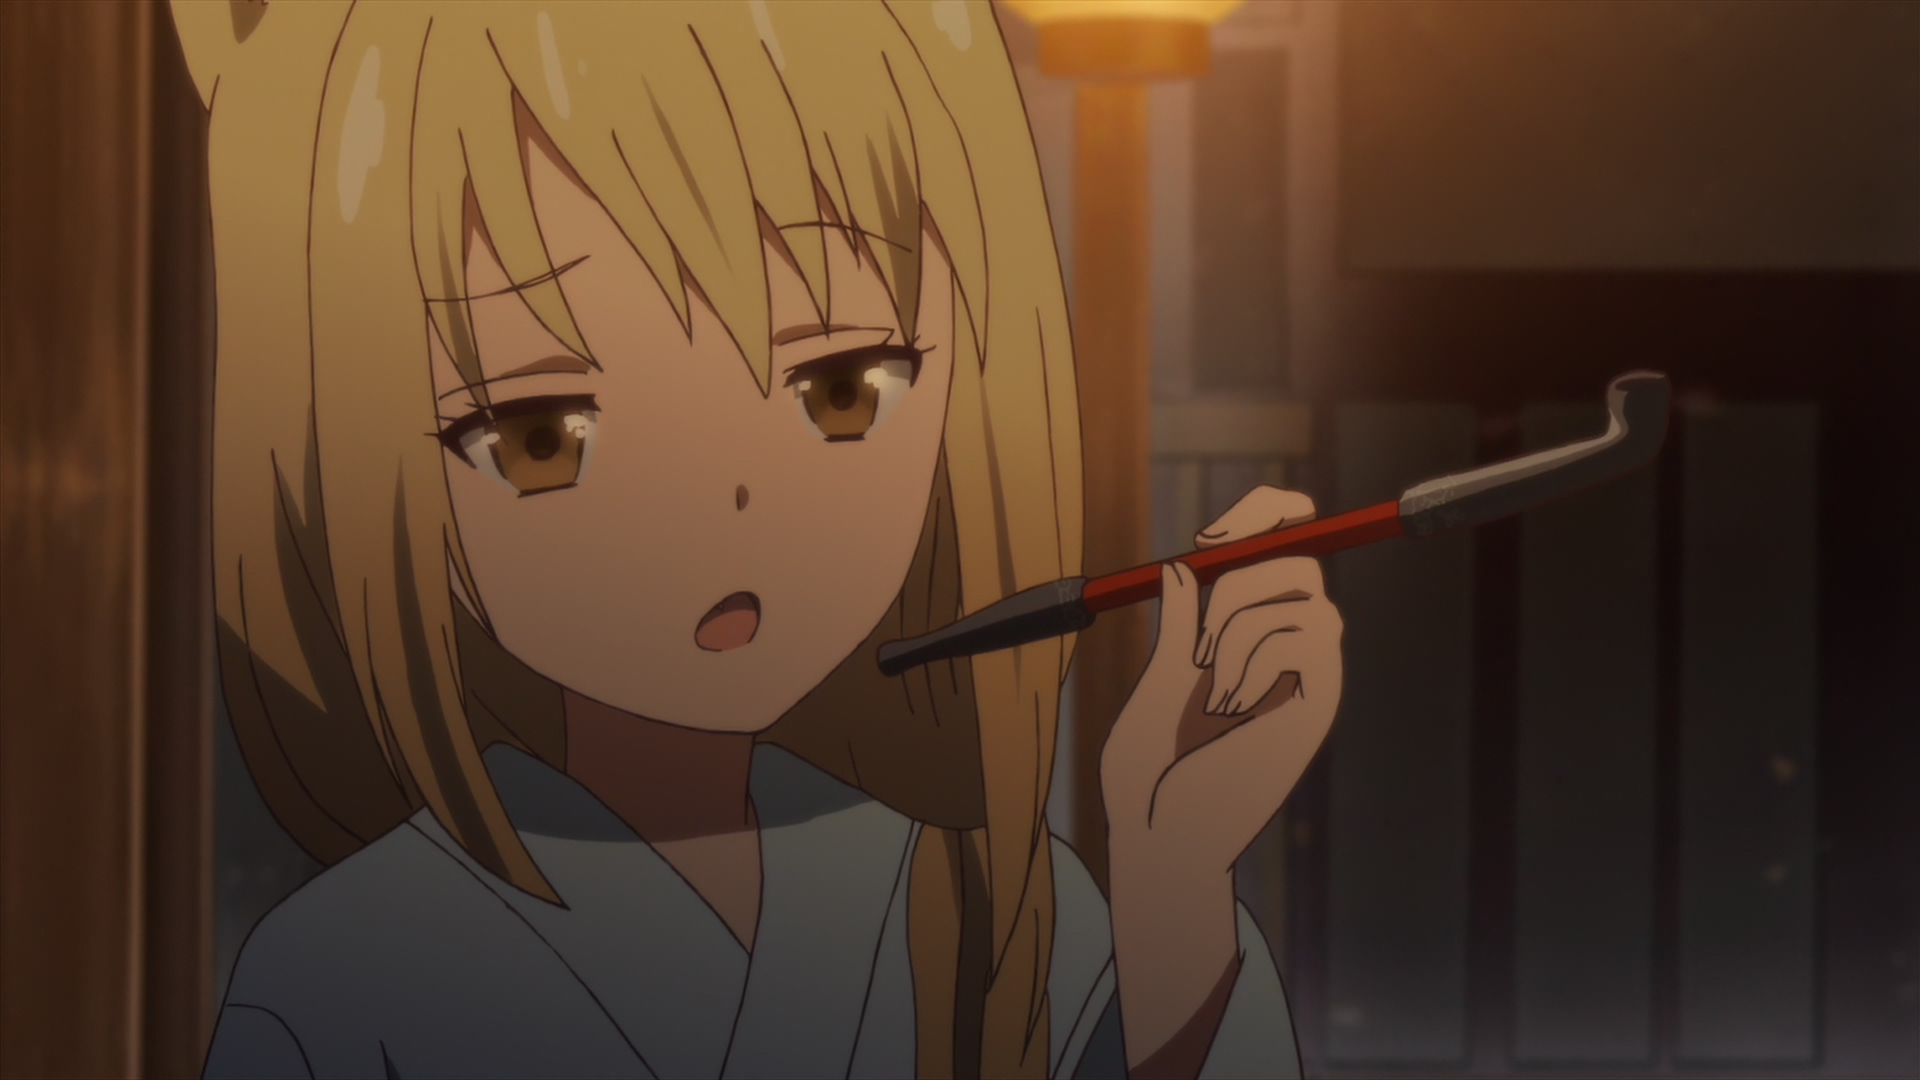桐: (169, 1, 1346, 1080)
